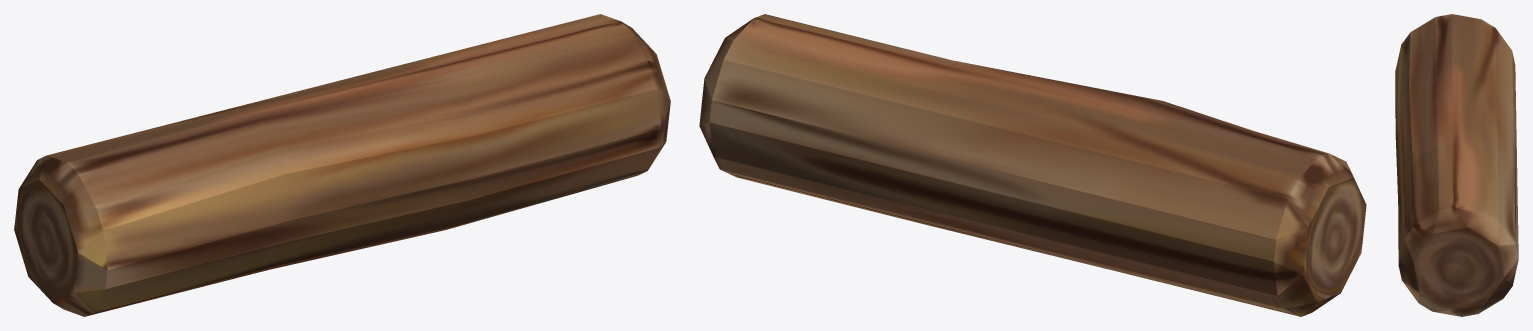
The model's file is wood-block-01.obj.
3 renders of one model, left to right at view 1: azimuth 30°, elevation 25°; view 2: azimuth 150°, elevation 25°; view 3: azimuth 270°, elevation 25°, orthographic. The views are drawn at different scales.
Visible parts, largest first — view 1: wood-block-01; view 2: wood-block-01; view 3: wood-block-01.
Boxes of the visible parts, x1=… form: wood-block-01: x1=14, y1=14, x2=670, y2=316; wood-block-01: x1=699, y1=14, x2=1366, y2=316; wood-block-01: x1=1395, y1=14, x2=1518, y2=316.
Size of the model in its own units: 2.02 by 0.5051 by 0.5009.
